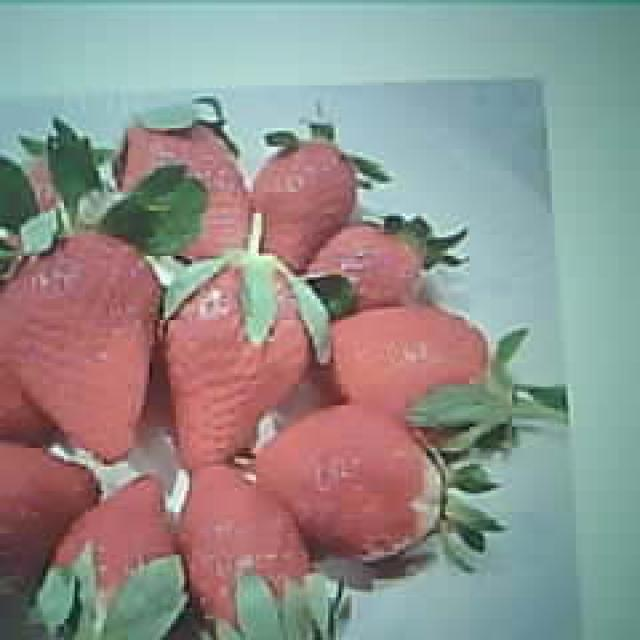strawberry: (0, 234, 161, 461), (164, 251, 310, 471), (264, 405, 448, 558)
